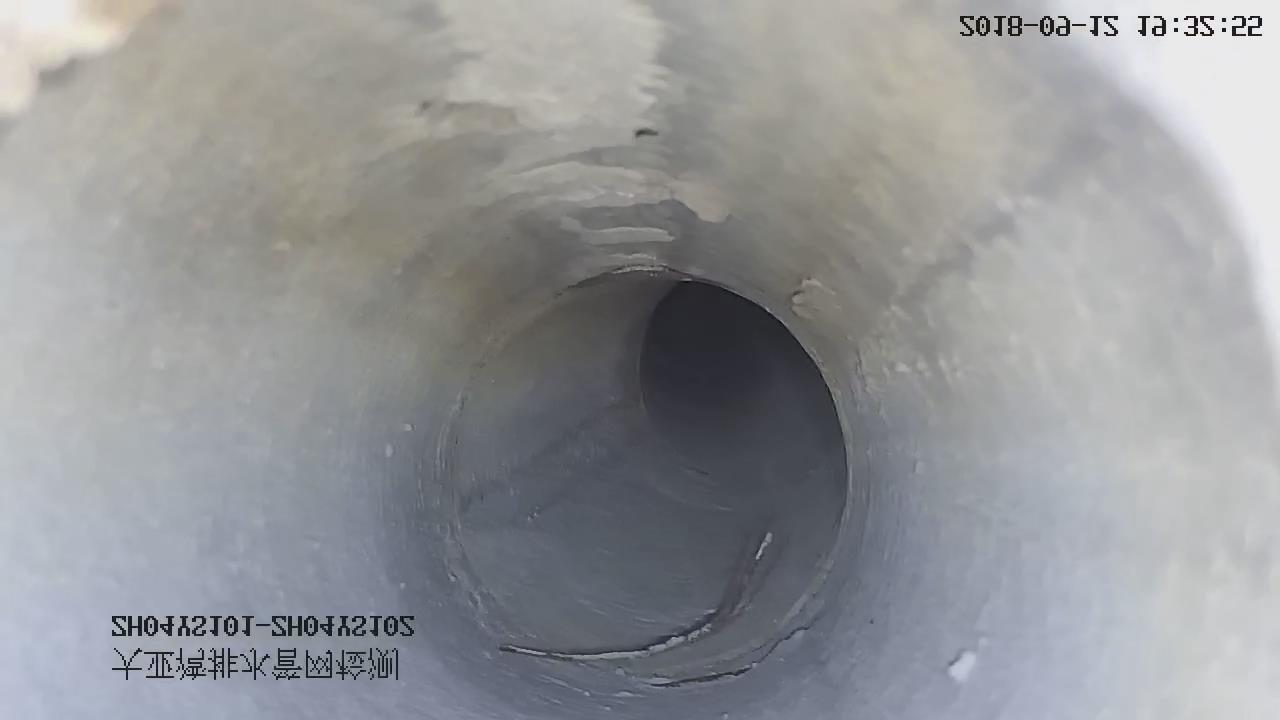PL: (490, 517, 781, 664)
